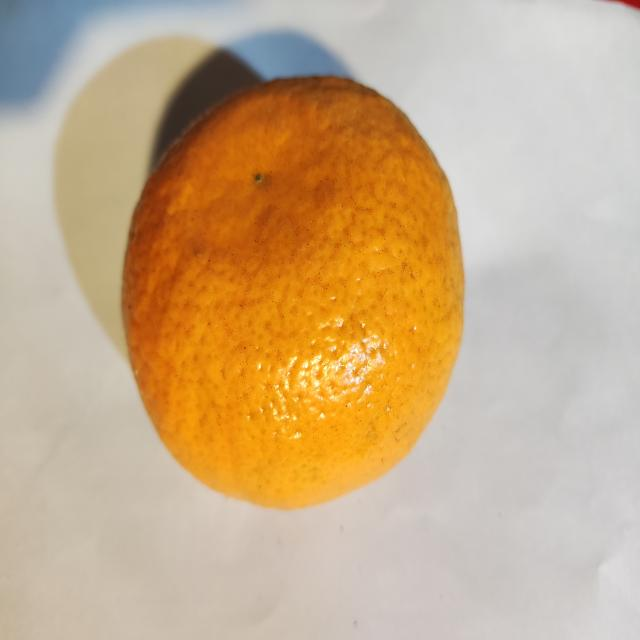orange: (123, 78, 463, 508)
